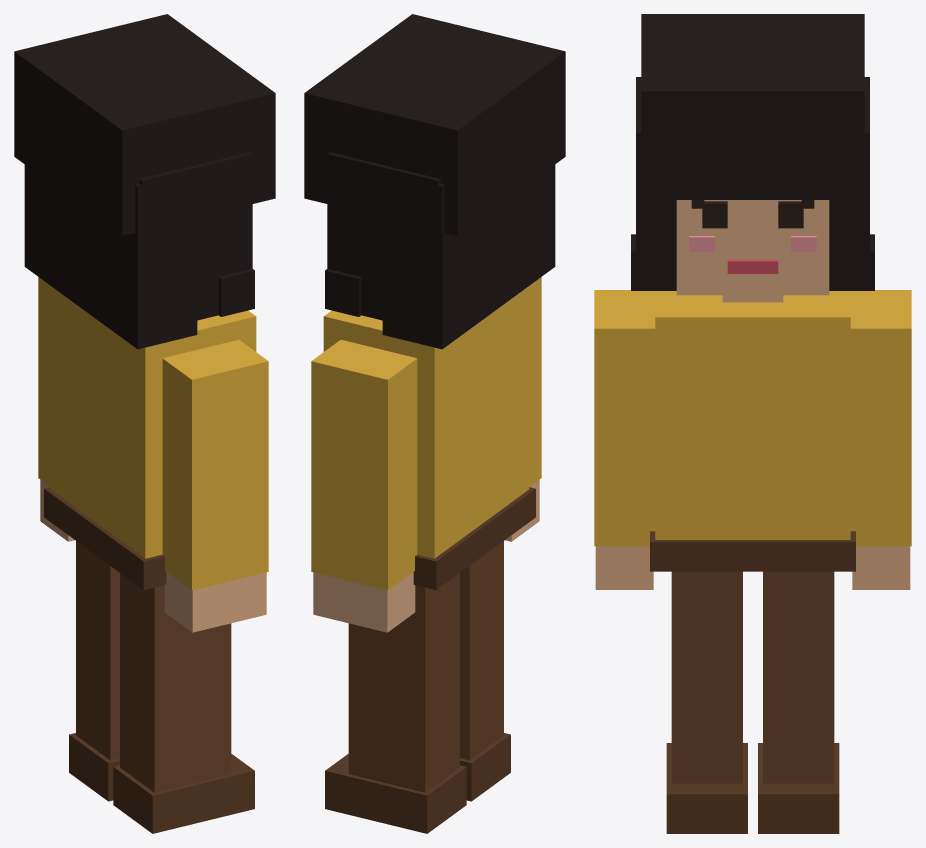
The model's file is nguyens_mom.glb.
3 renders of one model, left to right at view 1: azimuth 30°, elevation 25°; view 2: azimuth 150°, elevation 25°; view 3: azimuth 270°, elevation 25°, orthographic. The views are drawn at different scales.
Parts seen in each view (by area): view 1: Box22, Box9, Box7, Box23, Box5, Box26, Box1, Box6, Box8, Box10, Box3, Box2 (+1 smaller); view 2: Box22, Box9, Box3, Box23, Box1, Box24, Box5, Box2, Box4, Box10, Box7, Box6 (+1 smaller); view 3: Box9, Box22, Box3, Box7, Box1, Box5, Box12, Box10, Box2, Box6, Box26, Box24 (+7 smaller).
Boxes of the visible parts, left/top/right/bottom form: Box22: left=14, top=14, right=275, bottom=235; Box9: left=50, top=286, right=256, bottom=558; Box7: left=162, top=339, right=268, bottom=590; Box23: left=24, top=164, right=197, bottom=349; Box5: left=120, top=573, right=231, bottom=792; Box26: left=139, top=152, right=252, bottom=333; Box1: left=76, top=541, right=119, bottom=760; Box6: left=113, top=754, right=254, bottom=833; Box8: left=164, top=572, right=266, bottom=632; Box10: left=44, top=487, right=166, bottom=590; Box3: left=38, top=277, right=50, bottom=486; Box2: left=69, top=733, right=119, bottom=801; Box22: left=304, top=14, right=565, bottom=235; Box9: left=323, top=286, right=529, bottom=558; Box3: left=311, top=339, right=417, bottom=590; Box23: left=382, top=164, right=555, bottom=349; Box1: left=348, top=573, right=459, bottom=792; Box24: left=327, top=152, right=440, bottom=333; Box5: left=460, top=541, right=503, bottom=760; Box2: left=325, top=754, right=466, bottom=833; Box4: left=313, top=572, right=415, bottom=632; Box10: left=413, top=487, right=535, bottom=590; Box7: left=529, top=277, right=541, bottom=486; Box6: left=460, top=733, right=510, bottom=801; Box9: left=655, top=291, right=850, bottom=539; Box22: left=641, top=14, right=864, bottom=199; Box3: left=850, top=290, right=911, bottom=546; Box7: left=594, top=290, right=655, bottom=546; Box1: left=763, top=571, right=834, bottom=783; Box5: left=671, top=571, right=742, bottom=783; Box12: left=676, top=200, right=829, bottom=295; Box10: left=650, top=531, right=855, bottom=571; Box2: left=758, top=743, right=839, bottom=833; Box6: left=666, top=743, right=747, bottom=833; Box26: left=636, top=77, right=676, bottom=290; Box24: left=829, top=77, right=869, bottom=290.
Bounding box in the file's own units: 0.4082 × 1.84 × 0.7088.
